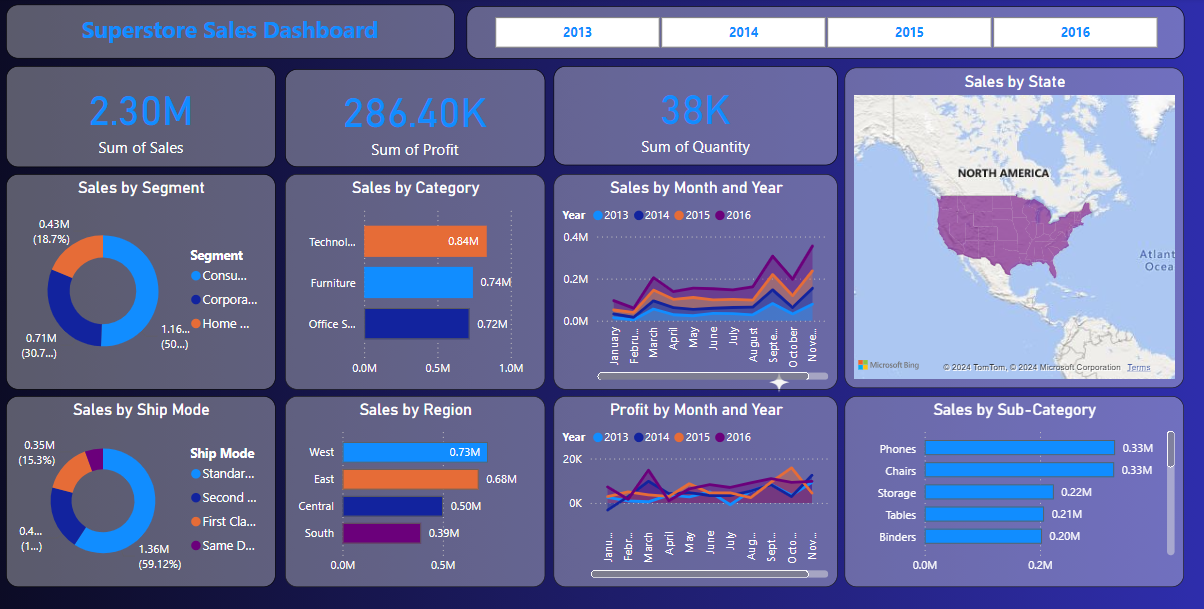

This screenshot's page, from the dashboard's own definition file:
{"tool":"powerbi","page":{"name":"Dashboard","canvas":[1280,720],"ordinal":1},"visuals":[{"type":"donutChart","title":"Sales by Segment","fields":{"Y":["Sum(Orders.Sales)"],"Category":["Orders.Segment"]},"box":[10,187.1,285.7,228.6],"z":0},{"type":"donutChart","title":"Sales by Ship Mode","fields":{"Y":["Sum(Orders.Sales)"],"Category":["Orders.Ship Mode"]},"box":[10,422.9,285.7,202.9],"z":1000},{"type":"textbox","box":[10,8.6,475.7,57.1],"z":2000},{"type":"card","fields":{"Values":["Sum(Orders.Sales)"]},"box":[10,72.5,286.2,107.5],"z":3000},{"type":"card","fields":{"Values":["Sum(Orders.Quantity)"]},"box":[590,73.8,301.2,105],"z":4000},{"type":"card","fields":{"Values":["Sum(Orders.Profit)"]},"box":[305.7,75.7,275.7,104.3],"z":5000},{"type":"barChart","title":" Sales by Category","fields":{"Y":["Sum(Orders.Sales)"],"Category":["Orders.Category"]},"box":[305.7,187.1,275.7,228.6],"z":6000},{"type":"clusteredBarChart","title":"Sales by Region","fields":{"Y":["Sum(Orders.Sales)"],"Category":["Orders.Region"]},"box":[305.7,422.9,275.7,202.9],"z":7000},{"type":"stackedAreaChart","title":"Sales by Month and Year","fields":{"Category":["Orders.Order Date.Variation.Date Hierarchy.Month"],"Y":["Sum(Orders.Sales)"],"Series":["Orders.Order Date.Variation.Date Hierarchy.Year"]},"box":[590,187.1,301.4,228.6],"z":8000},{"type":"areaChart","title":" Profit by Month and Year","fields":{"Category":["Orders.Order Date.Variation.Date Hierarchy.Month"],"Series":["Orders.Order Date.Variation.Date Hierarchy.Year"],"Y":["Sum(Orders.Profit)"]},"box":[590,422.9,301.4,202.9],"z":9000},{"type":"filledMap","title":" Sales by State","fields":{"Category":["Orders.State"]},"box":[898.8,75,360,340],"z":10000},{"type":"barChart","title":" Sales by Sub-Category","fields":{"Y":["Sum(Orders.Sales)"],"Category":["Orders.Sub-Category"]},"box":[898.6,422.9,360,202.9],"z":11000},{"type":"slicer","fields":{"Values":["Orders.Order Date.Variation.Date Hierarchy.Year"]},"box":[497.5,8.8,761.2,56.2],"z":12000}]}

Visuals, with their boxes on the page's 1280x720 design canvas (x1, y1, x2, y2). These are canvas units, not pixel positions in the 1204x609 screenshot, which may show the page scaled, cropped or inside an application window:
"Sales by Segment" donutChart: [10, 187, 296, 416]
"Sales by Ship Mode" donutChart: [10, 423, 296, 626]
textbox: [10, 9, 486, 66]
card - Sum(Orders.Sales): [10, 72, 296, 180]
card - Sum(Orders.Quantity): [590, 74, 891, 179]
card - Sum(Orders.Profit): [306, 76, 581, 180]
" Sales by Category" barChart: [306, 187, 581, 416]
"Sales by Region" clusteredBarChart: [306, 423, 581, 626]
"Sales by Month and Year" stackedAreaChart: [590, 187, 891, 416]
" Profit by Month and Year" areaChart: [590, 423, 891, 626]
" Sales by State" filledMap: [899, 75, 1259, 415]
" Sales by Sub-Category" barChart: [899, 423, 1259, 626]
slicer - Orders.Order Date.Variation.Date Hierarchy.Year: [498, 9, 1259, 65]
